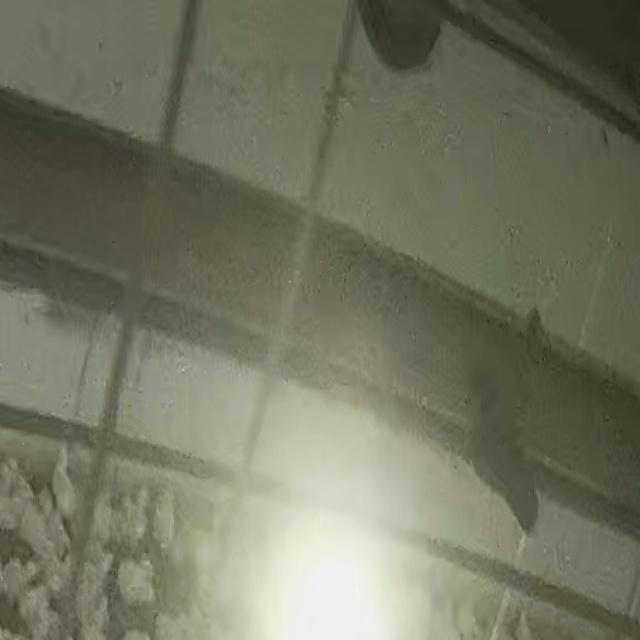chicken: (41, 491, 77, 551), (124, 491, 153, 550), (52, 441, 74, 515), (118, 560, 155, 603), (43, 548, 76, 595), (19, 585, 48, 635), (22, 502, 46, 555), (2, 562, 34, 601), (155, 493, 177, 549), (89, 545, 112, 596), (91, 496, 115, 539), (0, 457, 20, 503), (0, 499, 19, 529)
